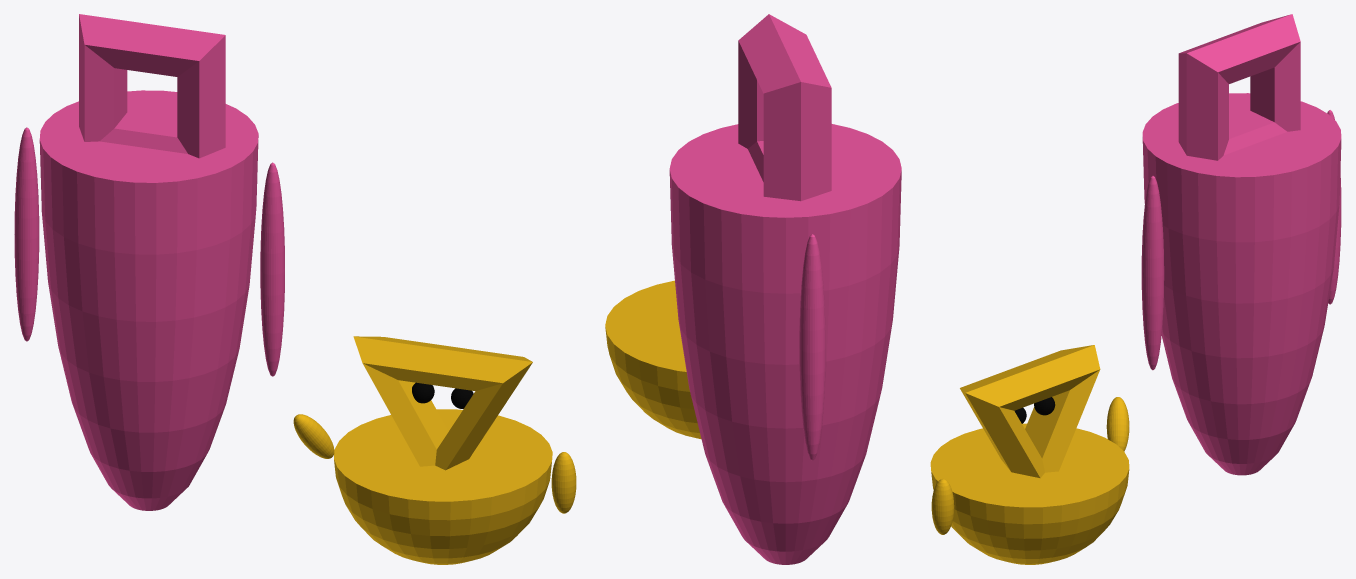
The picture shows the model from 3 angles, left to right: view 1: azimuth 30°, elevation 25°; view 2: azimuth 150°, elevation 25°; view 3: azimuth 270°, elevation 25°; orthographic projection. The views are drawn at different scales.
Parts seen in each view (by area): view 1: Sphere.007, Sphere.002, Torus.433, Torus.432, Sphere.009, Sphere.008, Sphere.005, Sphere.006; view 2: Sphere.007, Torus.433, Sphere.002, Sphere.009; view 3: Sphere.007, Sphere.002, Torus.433, Torus.432, Sphere.008, Sphere.005, Sphere.006, Sphere.009.
Part boxes in pixels (left/top/right/bottom): Sphere.007: left=39, top=90, right=258, bottom=510; Sphere.002: left=334, top=409, right=552, bottom=564; Torus.433: left=79, top=14, right=225, bottom=158; Torus.432: left=353, top=336, right=532, bottom=470; Sphere.009: left=14, top=127, right=39, bottom=341; Sphere.008: left=260, top=162, right=284, bottom=376; Sphere.005: left=551, top=452, right=576, bottom=513; Sphere.006: left=293, top=414, right=334, bottom=458; Sphere.007: left=669, top=124, right=901, bottom=564; Torus.433: left=738, top=14, right=831, bottom=201; Sphere.002: left=605, top=280, right=701, bottom=439; Sphere.009: left=799, top=234, right=825, bottom=460; Sphere.007: left=1142, top=93, right=1341, bottom=475; Sphere.002: left=930, top=423, right=1129, bottom=564; Torus.433: left=1178, top=14, right=1300, bottom=160; Torus.432: left=960, top=345, right=1100, bottom=478; Sphere.008: left=1141, top=176, right=1164, bottom=370; Sphere.005: left=931, top=479, right=954, bottom=534; Sphere.006: left=1106, top=397, right=1129, bottom=451; Sphere.009: left=1327, top=110, right=1341, bottom=304.
Bounding box in the file's own units: 5.65 × 7.19 × 6.03.
